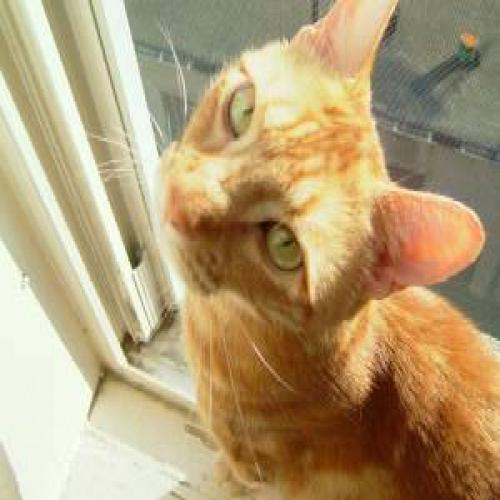cat-face: (149, 4, 486, 328)
